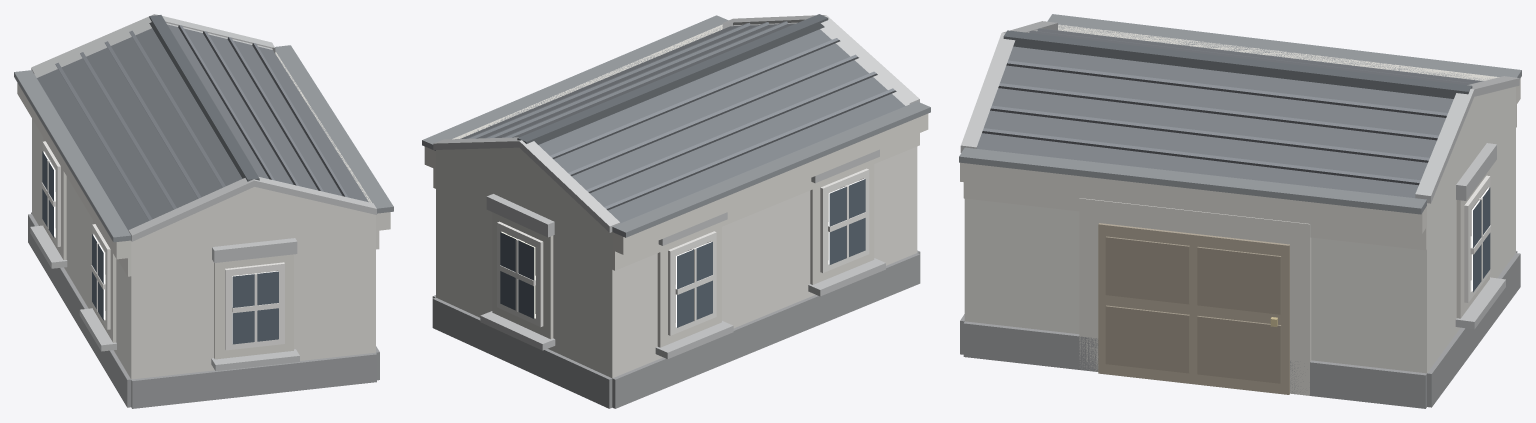
The picture shows the model from 3 angles, left to right: view 1: azimuth 30°, elevation 25°; view 2: azimuth 150°, elevation 25°; view 3: azimuth 270°, elevation 25°; orthographic projection. The views are drawn at different scales.
Parts seen in each view (by area): view 1: harl, slate, plinth, stone_band, lead, string, slate_lt, frame, slate_dk, window_glass_003, window_glass_001, window_glass_002; view 2: harl, slate, string, plinth, stone_band, slate_lt, lead, frame, slate_dk, window_glass_002, window_glass_001, window_glass_004; view 3: harl, slate, string, door_grey_p, lead, slate_lt, plinth, door_grey, slate_dk, stone_band, frame, window_glass_004.
Boxes of the visible parts, bbox=[...] form: harl: bbox=[32, 119, 375, 379]; slate: bbox=[37, 24, 368, 230]; plinth: bbox=[28, 212, 379, 408]; stone_band: bbox=[30, 14, 376, 370]; lead: bbox=[14, 45, 393, 242]; string: bbox=[17, 52, 390, 359]; slate_lt: bbox=[55, 25, 348, 220]; frame: bbox=[41, 141, 284, 350]; slate_dk: bbox=[149, 15, 259, 181]; window_glass_003: bbox=[232, 271, 278, 344]; window_glass_001: bbox=[42, 151, 55, 237]; window_glass_002: bbox=[92, 234, 104, 320]; harl: bbox=[436, 146, 917, 378]; slate: bbox=[460, 23, 905, 223]; string: bbox=[424, 24, 928, 347]; plinth: bbox=[432, 250, 920, 408]; stone_band: bbox=[433, 15, 919, 359]; slate_lt: bbox=[466, 21, 896, 210]; lead: bbox=[422, 15, 930, 237]; frame: bbox=[497, 168, 869, 335]; slate_dk: bbox=[517, 14, 828, 144]; window_glass_002: bbox=[828, 178, 865, 264]; window_glass_001: bbox=[676, 241, 712, 327]; window_glass_004: bbox=[500, 232, 535, 318]; harl: bbox=[964, 86, 1515, 373]; slate: bbox=[976, 46, 1453, 197]; string: bbox=[960, 24, 1520, 395]; door_grey_p: bbox=[1105, 236, 1281, 383]; lead: bbox=[959, 14, 1521, 214]; slate_lt: bbox=[982, 28, 1482, 185]; plinth: bbox=[960, 251, 1520, 408]; door_grey: bbox=[1098, 223, 1289, 394]; slate_dk: bbox=[1003, 30, 1472, 98]; stone_band: bbox=[960, 21, 1519, 329]; frame: bbox=[1464, 175, 1490, 302]; window_glass_004: bbox=[1471, 187, 1490, 292].
Size of the model in its own units: 5.59 by 3.48 by 6.84.
